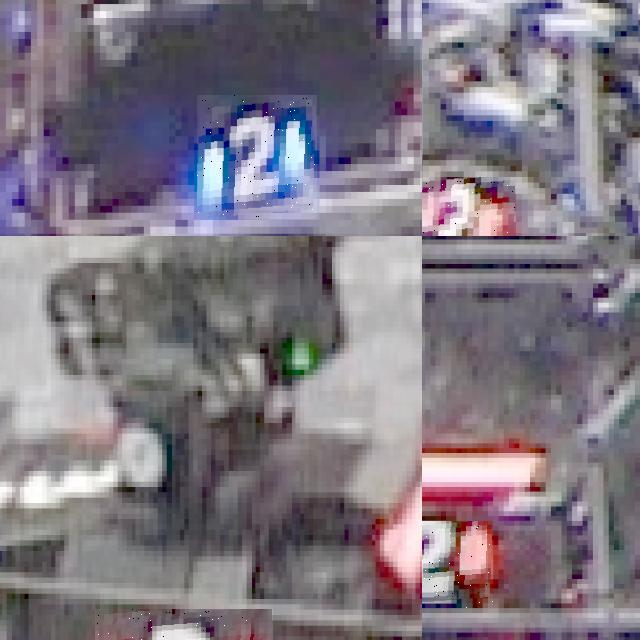B2: (197, 95, 317, 219)
R2: (422, 520, 493, 608), (422, 177, 515, 236)
